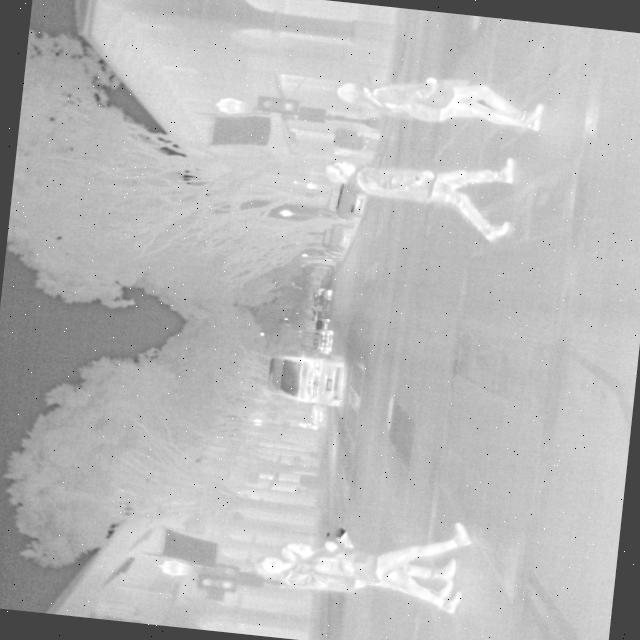Pedestrian: (314, 135, 522, 245), (275, 501, 472, 614), (330, 63, 548, 137), (250, 536, 460, 603)
Vehicle: (262, 347, 348, 408)
